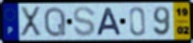0: (128, 6, 147, 37)
9: (152, 5, 171, 38)
A: (96, 7, 123, 37)
Q: (43, 5, 68, 39)
S: (72, 6, 97, 38)
X: (19, 6, 43, 38)
